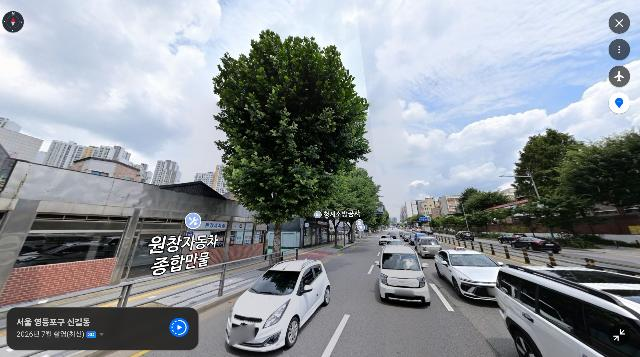other: (212, 28, 372, 265), (511, 129, 598, 242), (566, 125, 640, 247), (319, 167, 381, 248), (454, 187, 514, 236), (363, 197, 389, 244), (421, 206, 456, 235), (403, 214, 423, 231)
